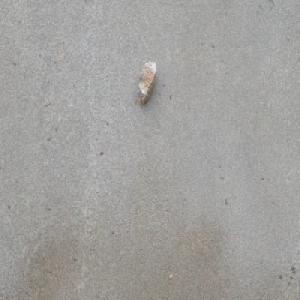Rock: (137, 59, 157, 105)
